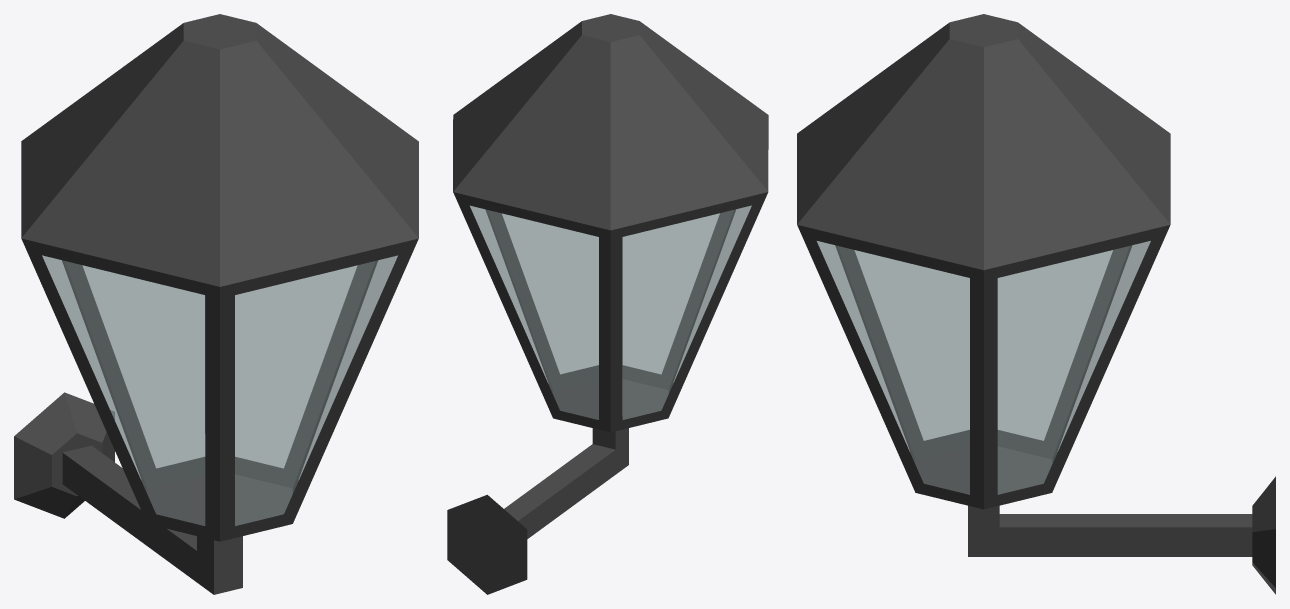
File: lamp_wall_outside.obj
3 views of the same model, side by side, from view 1: azimuth 30°, elevation 25°; view 2: azimuth 150°, elevation 25°; view 3: azimuth 270°, elevation 25° (orthographic). The views are drawn at different scales.
Visible parts, largest first — view 1: 1_1, 3_3, 4_4, 6_6, 7_7, 8_8, 9_9, 5_5, 2_2; view 2: 1_1, 2_2, 7_7, 5_5, 4_4, 9_9, 8_8, 6_6, 3_3; view 3: 1_1, 6_6, 5_5, 3_3, 2_2, 8_8, 9_9, 4_4, 7_7.
Boxes of the visible parts, left/top/right/bottom form: 1_1: left=21, top=14, right=418, bottom=541; 3_3: left=42, top=255, right=205, bottom=525; 4_4: left=235, top=255, right=397, bottom=525; 6_6: left=235, top=266, right=356, bottom=467; 7_7: left=83, top=266, right=204, bottom=467; 8_8: left=62, top=445, right=242, bottom=594; 9_9: left=14, top=392, right=114, bottom=518; 5_5: left=299, top=256, right=397, bottom=478; 2_2: left=43, top=256, right=140, bottom=477; 1_1: left=453, top=14, right=768, bottom=432; 2_2: left=622, top=205, right=751, bottom=419; 7_7: left=470, top=205, right=598, bottom=419; 5_5: left=502, top=214, right=598, bottom=373; 4_4: left=623, top=213, right=719, bottom=373; 9_9: left=447, top=494, right=527, bottom=594; 8_8: left=504, top=401, right=628, bottom=538; 6_6: left=470, top=206, right=547, bottom=381; 3_3: left=674, top=206, right=750, bottom=380; 1_1: left=797, top=14, right=1170, bottom=509; 6_6: left=997, top=241, right=1150, bottom=494; 5_5: left=817, top=241, right=969, bottom=494; 3_3: left=855, top=250, right=969, bottom=440; 2_2: left=998, top=250, right=1112, bottom=440; 8_8: left=968, top=469, right=1252, bottom=556; 9_9: left=1252, top=476, right=1275, bottom=594; 4_4: left=817, top=241, right=908, bottom=448; 7_7: left=1059, top=241, right=1150, bottom=447.
Size of the model in its own units: 45 by 65 by 50.
